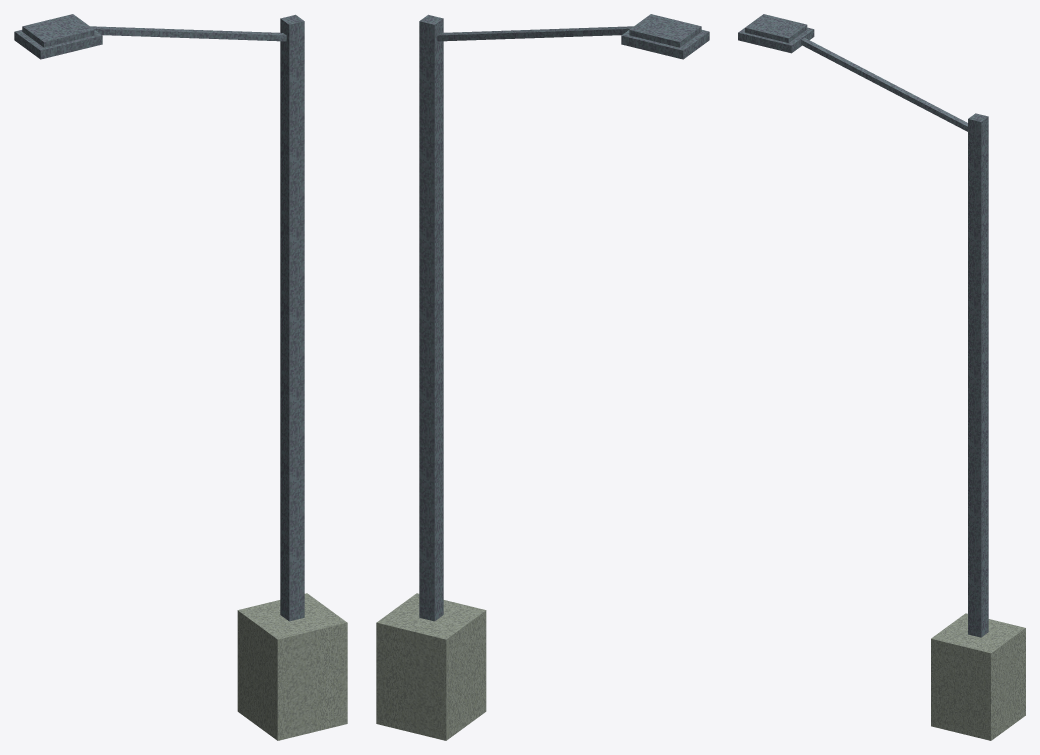
File: BLOCKYGON_STREET LIGHT.fbx
3 renders of one model, left to right at view 1: azimuth 30°, elevation 25°; view 2: azimuth 150°, elevation 25°; view 3: azimuth 330°, elevation 25°, orthographic. The views are drawn at different scales.
Parts seen in each view (by area): view 1: BLOCKYGON_STREET_LIGHT; view 2: BLOCKYGON_STREET_LIGHT; view 3: BLOCKYGON_STREET_LIGHT.
Boxes of the visible parts, x1,y1,x2,y2 form: BLOCKYGON_STREET_LIGHT: (14, 14, 347, 740); BLOCKYGON_STREET_LIGHT: (376, 14, 709, 740); BLOCKYGON_STREET_LIGHT: (738, 14, 1025, 740).
Bounding box in the file's own units: 392 × 934 × 91.22.
